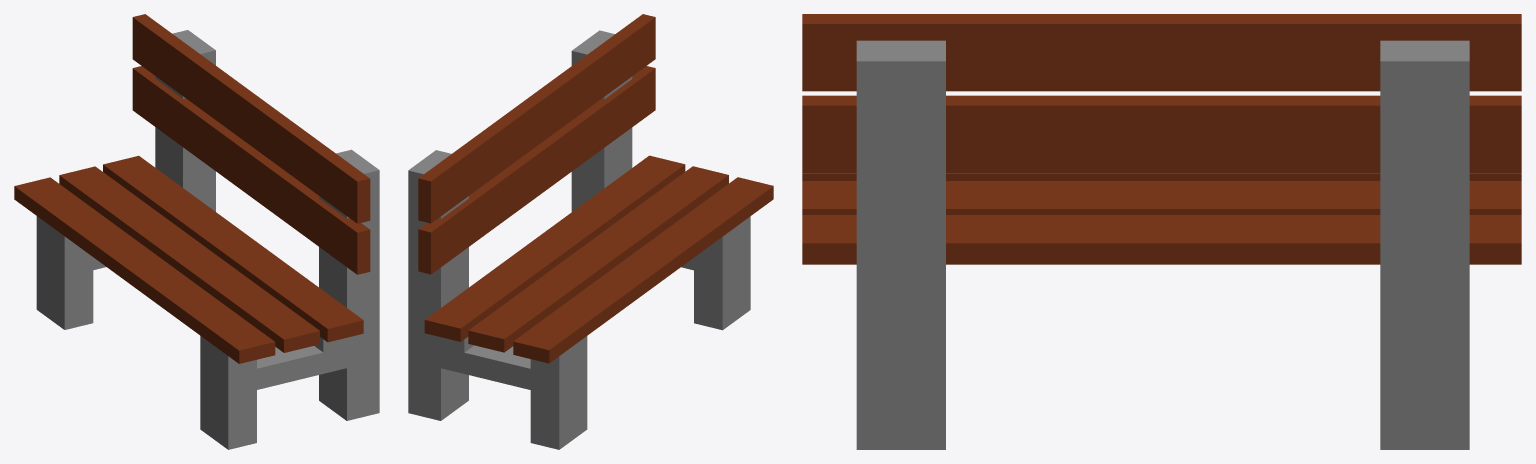
Rendered from Bench.fbx.
3 renders of one model, left to right at view 1: azimuth 30°, elevation 25°; view 2: azimuth 150°, elevation 25°; view 3: azimuth 270°, elevation 25°, orthographic. The views are drawn at different scales.
Parts seen in each view (by area): view 1: Cube.053; view 2: Cube.053; view 3: Cube.053.
Part boxes in pixels (box(x1,y1,x2,y2)): Cube.053: box(14, 14, 379, 449); Cube.053: box(408, 14, 773, 449); Cube.053: box(802, 14, 1521, 449).
Size of the model in its own units: 40.13 by 61.7 by 99.26.
